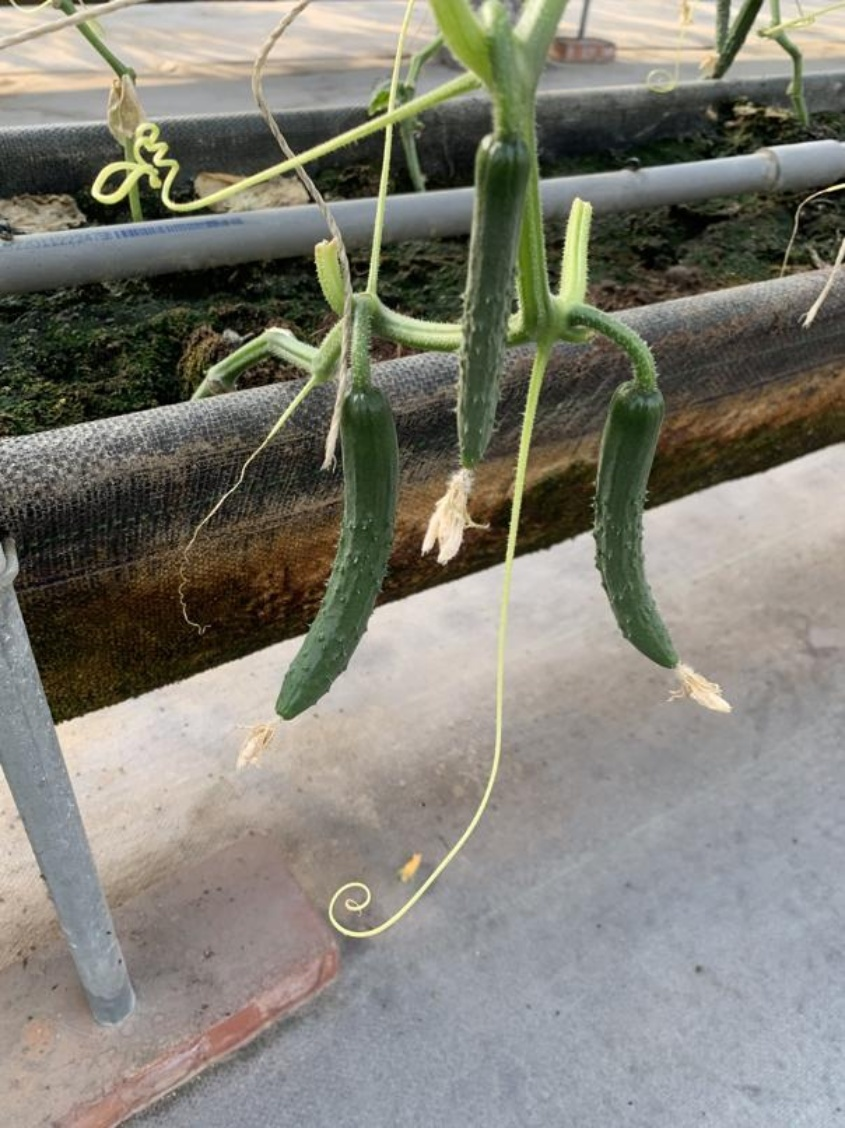growth: (585, 379, 695, 692)
